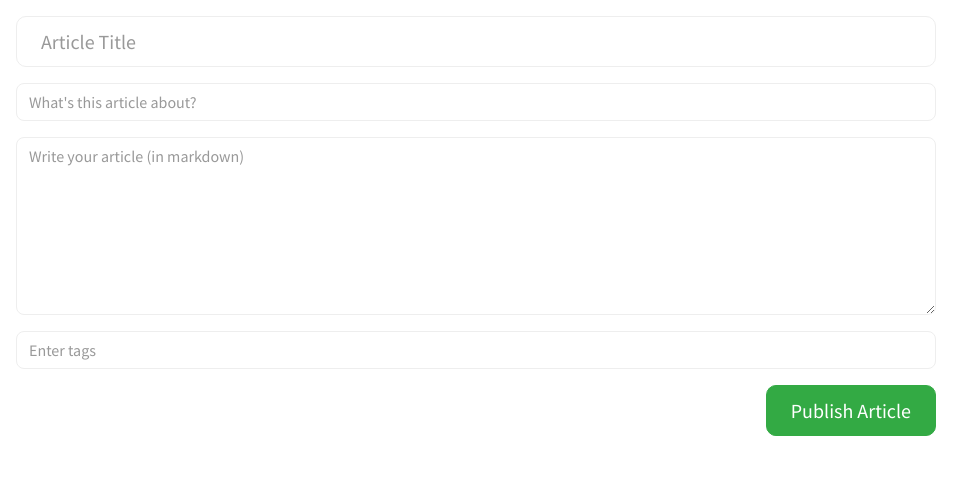
Test: Editor — create mode › adds a tag when Enter is pressed in the tag input
This screenshot has width=953, height=494.
Type "react" into the field with placeholder "Enter tags".
click(476, 350); type("react")  # box [16,331,936,369]
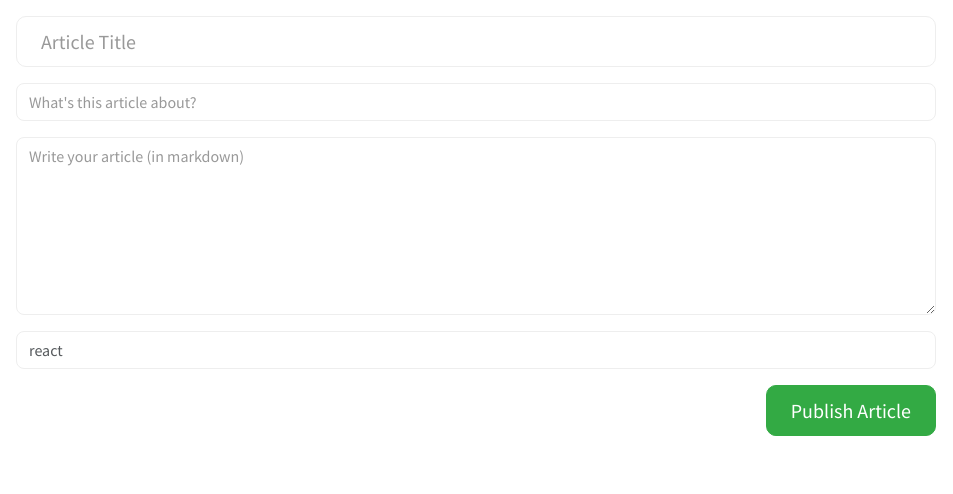
Press Enter in the field with placeholder "Enter tags", box [16,331,936,369]
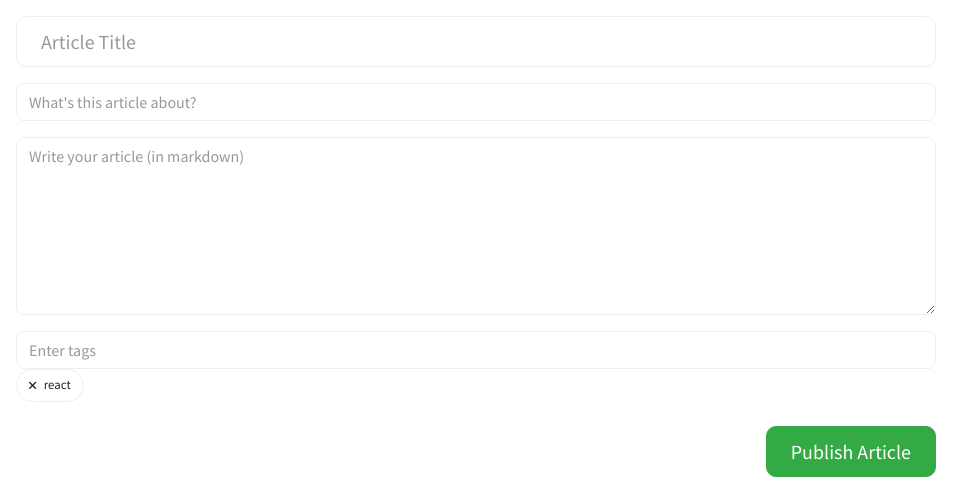
Expected: the text "react" is shown, [16,369,84,402]
